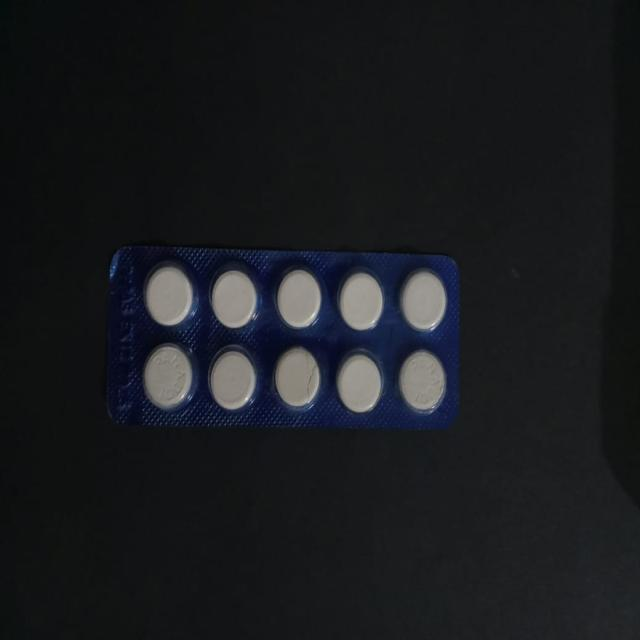defect: (272, 345, 322, 412)
